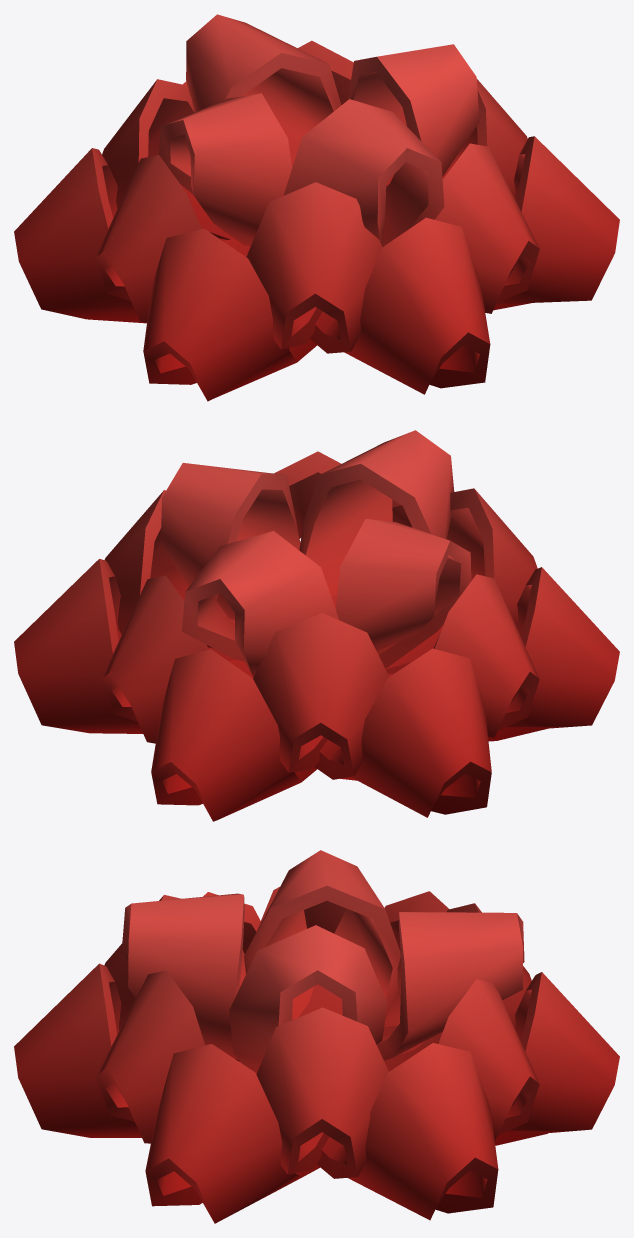
The model's file is bow_011.fbx.
3 views of the same model, one above another, from view 1: azimuth 30°, elevation 25°; view 2: azimuth 150°, elevation 25°; view 3: azimuth 270°, elevation 25° (orthographic).
Parts seen in each view (by area): view 1: bow_011; view 2: bow_011; view 3: bow_011.
Part boxes in pixels (bbox=[...]): bow_011: bbox=[14, 14, 619, 401]; bow_011: bbox=[14, 430, 619, 821]; bow_011: bbox=[14, 850, 619, 1223].
Bounding box in the file's own units: 231 × 256 × 115.
